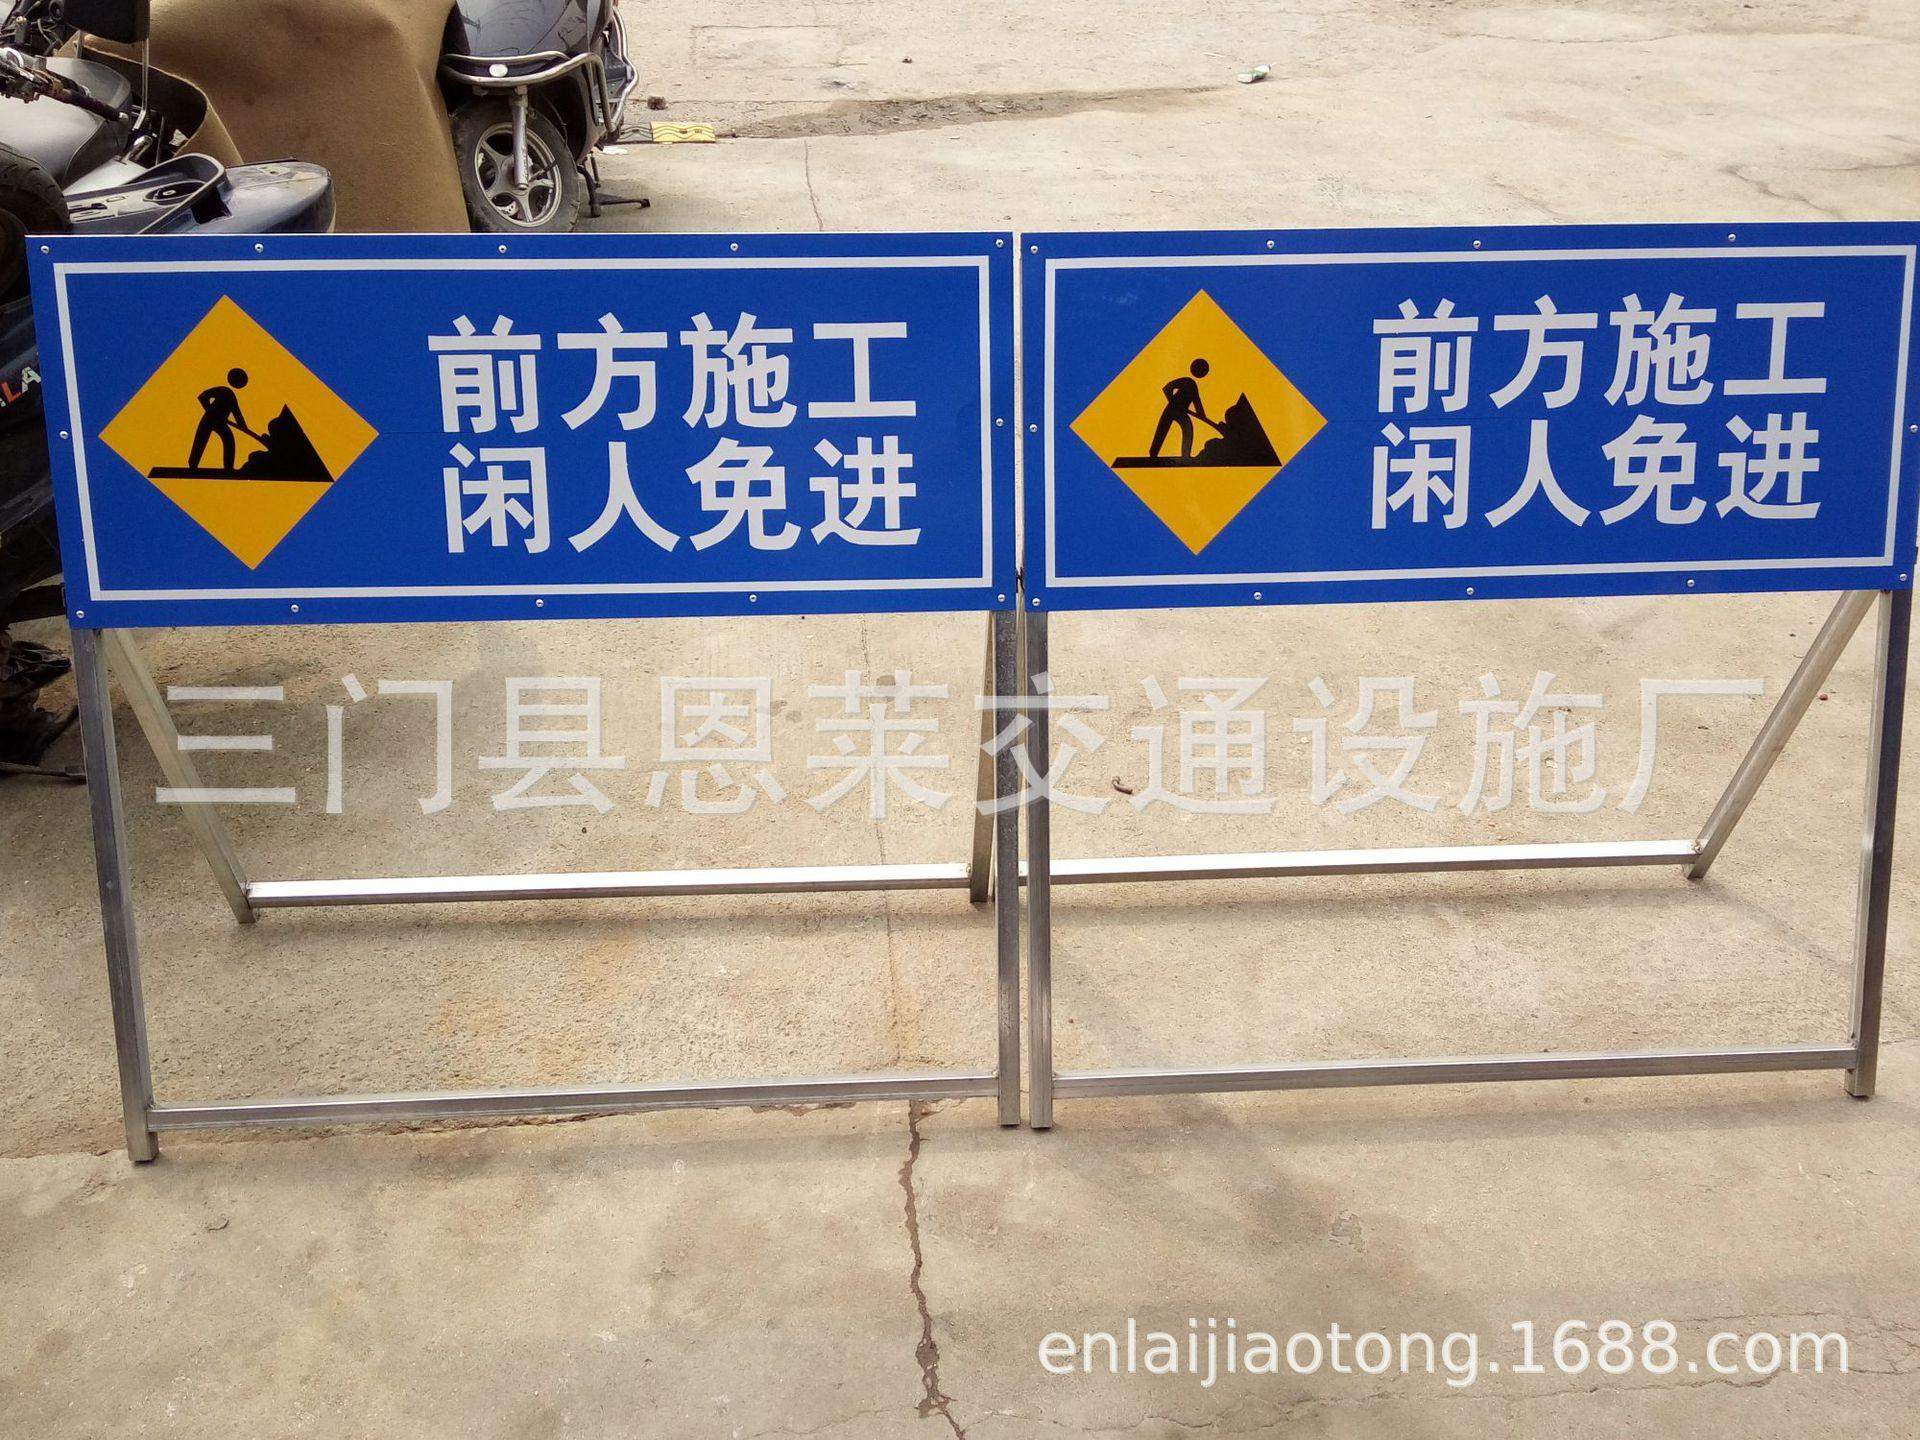sign: (41, 247, 1011, 593), (1033, 242, 1908, 581)
